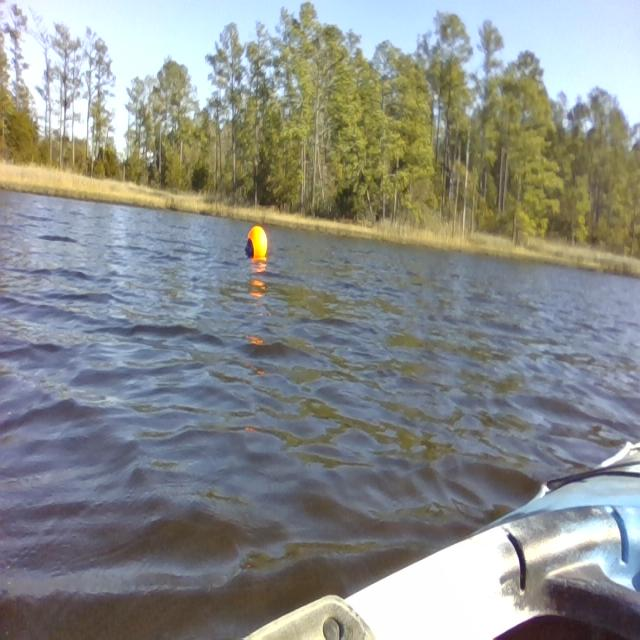Buoy: (236, 222, 275, 263)
